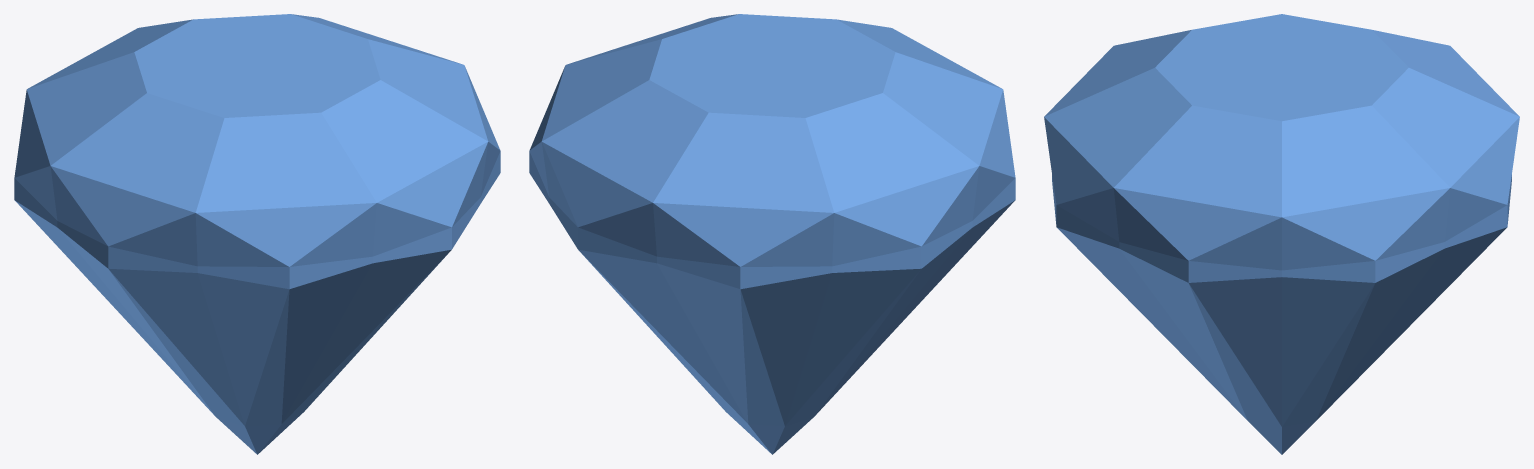
File: Diamond.fbx
The picture shows the model from 3 angles, left to right: view 1: azimuth 30°, elevation 25°; view 2: azimuth 150°, elevation 25°; view 3: azimuth 270°, elevation 25°; orthographic projection.
Visible parts, largest first — view 1: Diamond; view 2: Diamond; view 3: Diamond.
Part boxes in pixels (box(x1,y1,x2,y2)): Diamond: box(14, 14, 500, 454); Diamond: box(529, 14, 1015, 454); Diamond: box(1044, 14, 1519, 454).
Bounding box in the file's own units: 18009 × 16172 × 18009.
